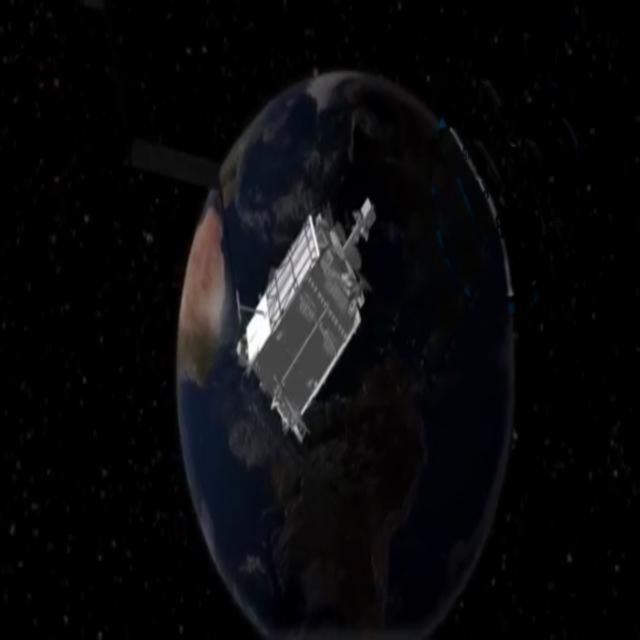medium_debris: (217, 183, 389, 449)
